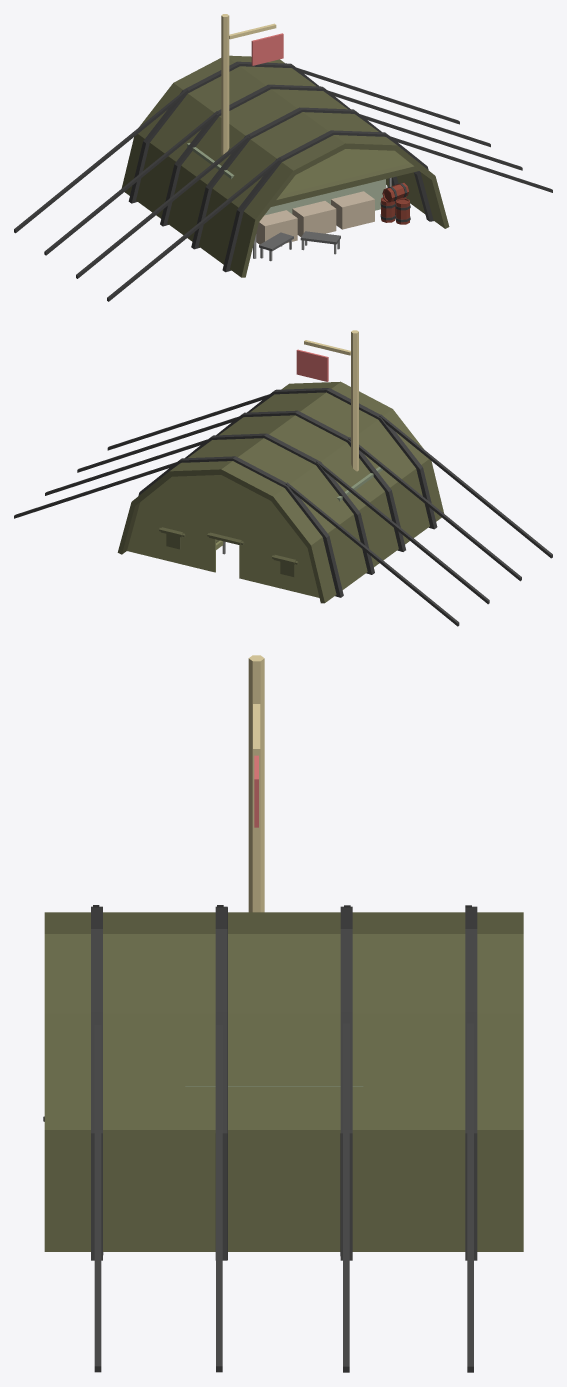
The model's file is building_barracks.glb.
The picture shows the model from 3 angles, top to bottom: view 1: azimuth 30°, elevation 25°; view 2: azimuth 150°, elevation 25°; view 3: azimuth 270°, elevation 25°; orthographic projection. The views are drawn at different scales.
Parts seen in each view (by area): view 1: Cylinder, building_barracks; view 2: Cylinder, building_barracks; view 3: Cylinder, building_barracks.
Boxes of the visible parts, x1=… form: Cylinder: x1=14, y1=55, x2=552, y2=301; building_barracks: x1=187, y1=14, x2=385, y2=244; Cylinder: x1=14, y1=381, x2=552, y2=626; building_barracks: x1=296, y1=330, x2=382, y2=501; Cylinder: x1=43, y1=905, x2=523, y2=1372; building_barracks: x1=185, y1=655, x2=363, y2=1086.
Bounding box in the file's own units: 1.15 × 0.5388 × 0.5397.
